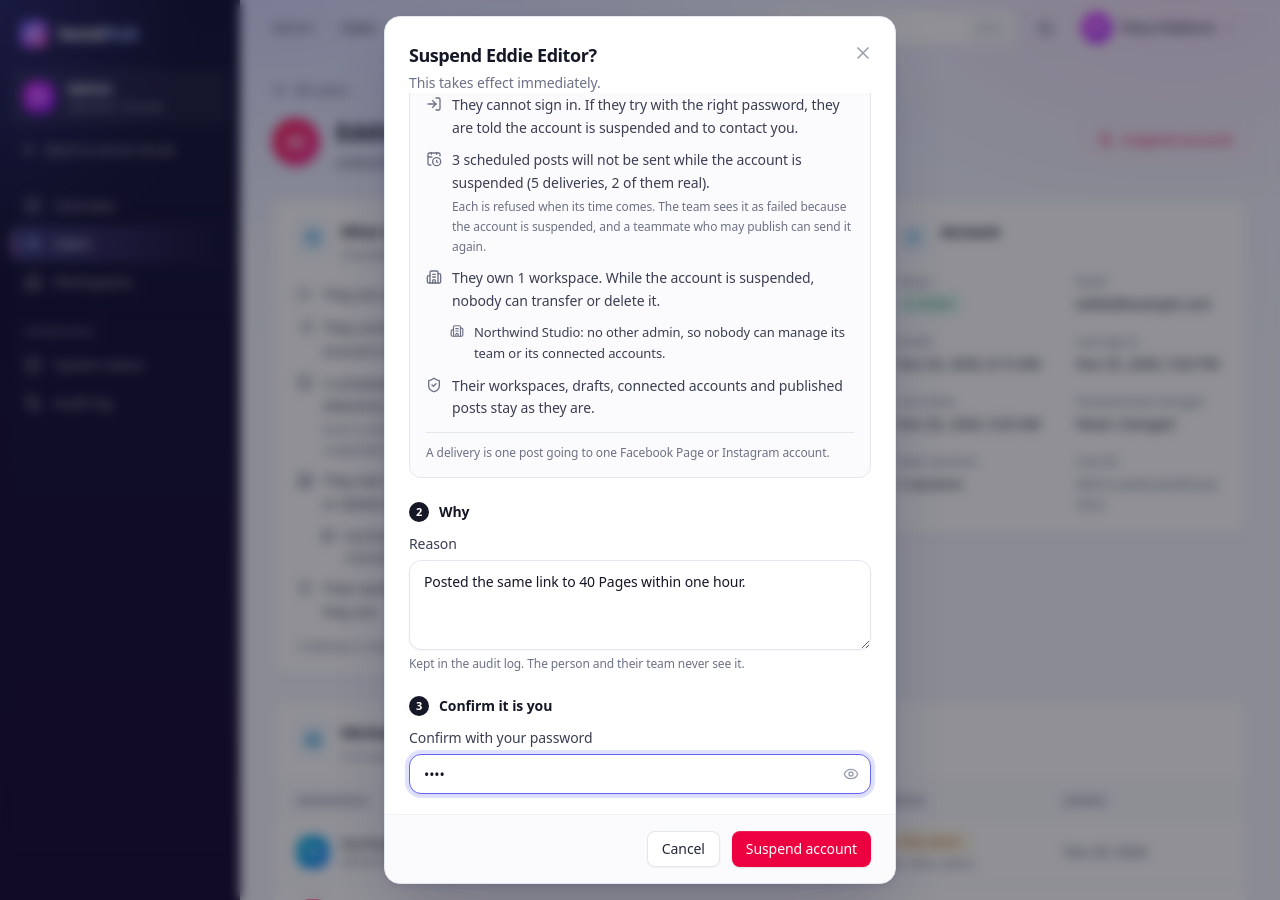
Test: suspending an account › shows the impact, checks the fields, and needs the right password
Earlier steps of the test are not shown.
(page scrolled)
Click the button "Suspend account" at (801, 849), box [732,831,871,867]
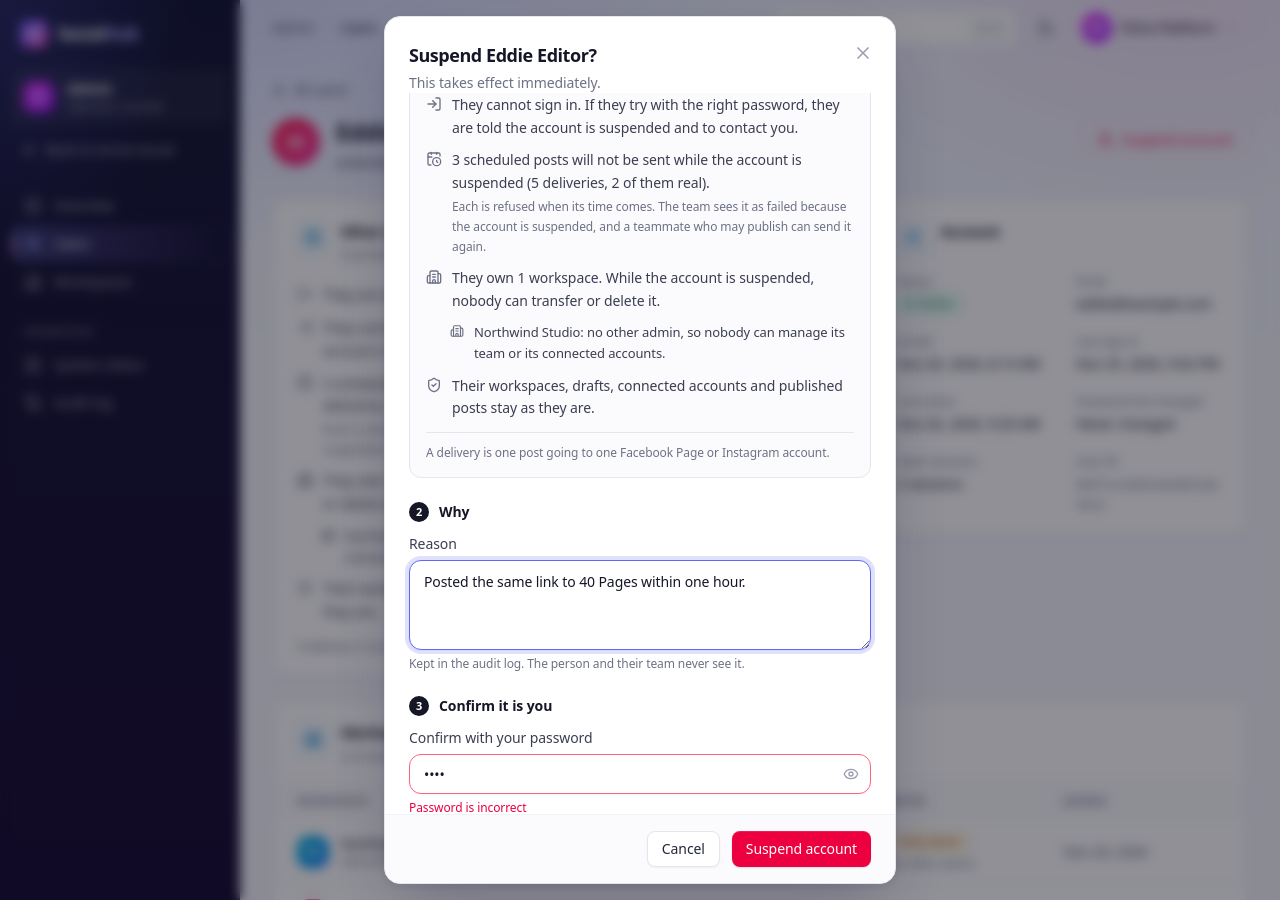
Expected: the text "Password is incorrect" is shown, [409,799,526,814]
